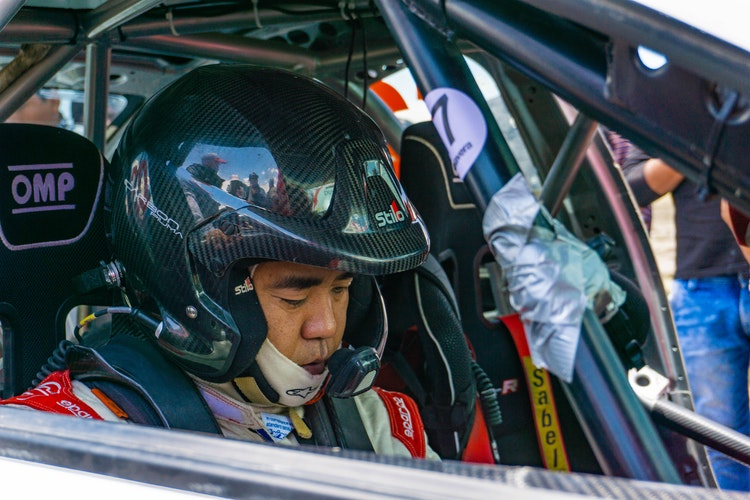helmet: (117, 70, 422, 390)
